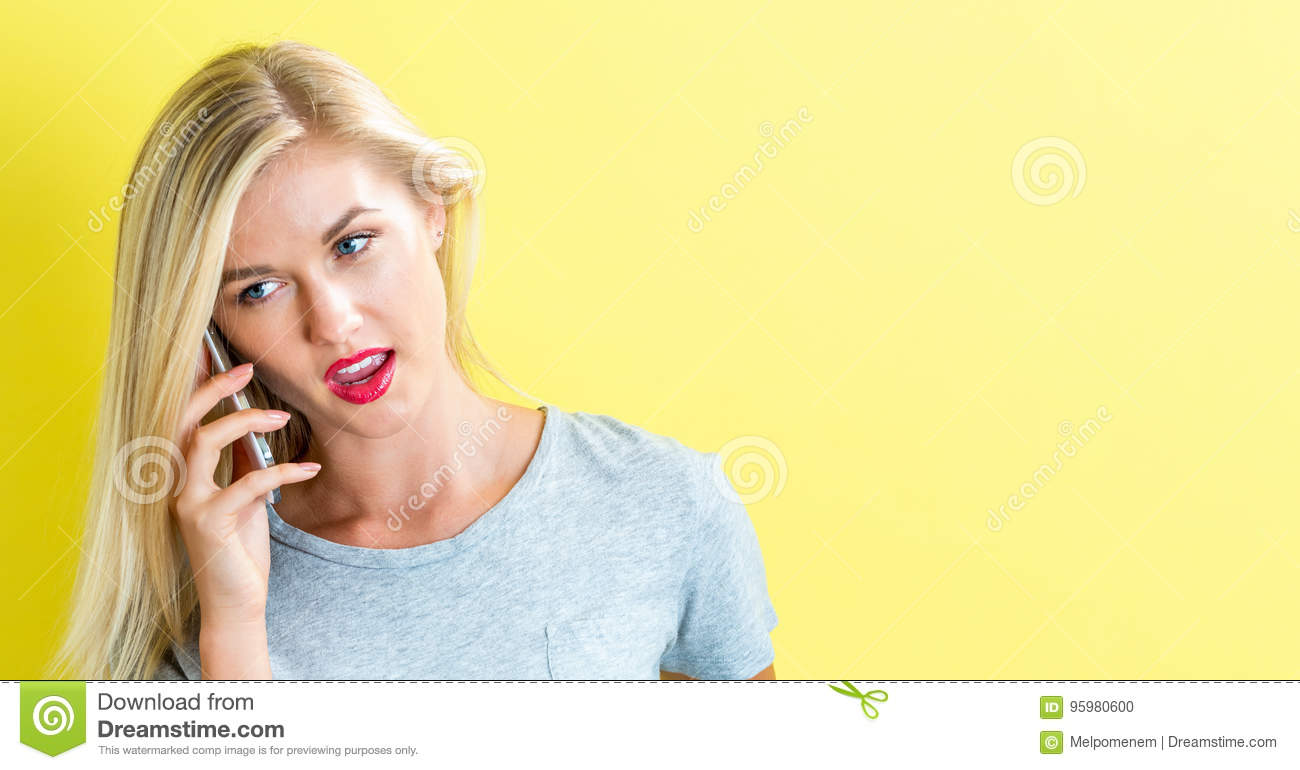phone: (187, 312, 289, 515)
talk: (172, 192, 426, 655)
